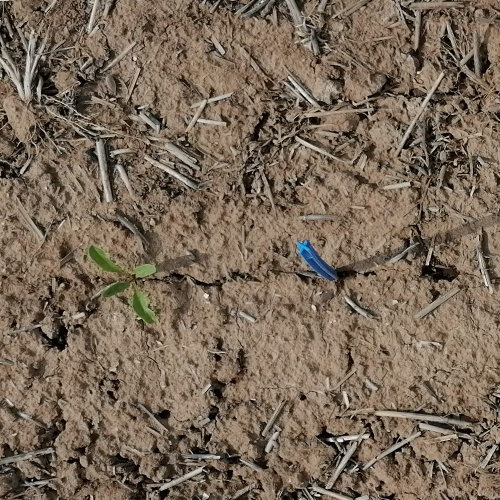beet: (88, 245, 157, 325)
